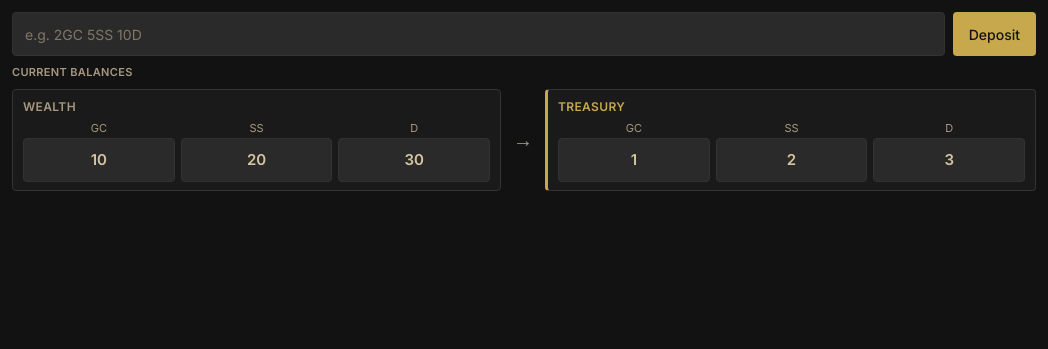
Scenario: TransferControl breakdown tooltip (Req 6.3) › includes zero components in the breakdown
The width and height of the screenshot is (1048, 349).
In the field named "amount": x=478, y=34 [12, 12, 945, 56], type "2GC"
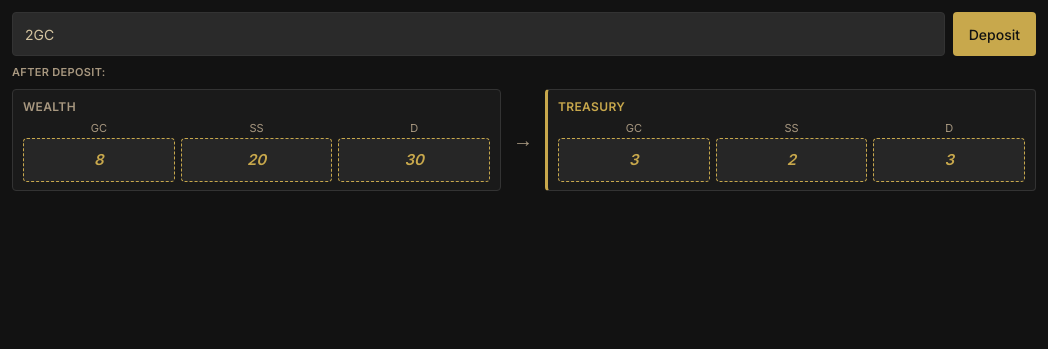
Click the button with test id "transfer-deposit-source-d": x=414, y=160 [338, 138, 490, 182]
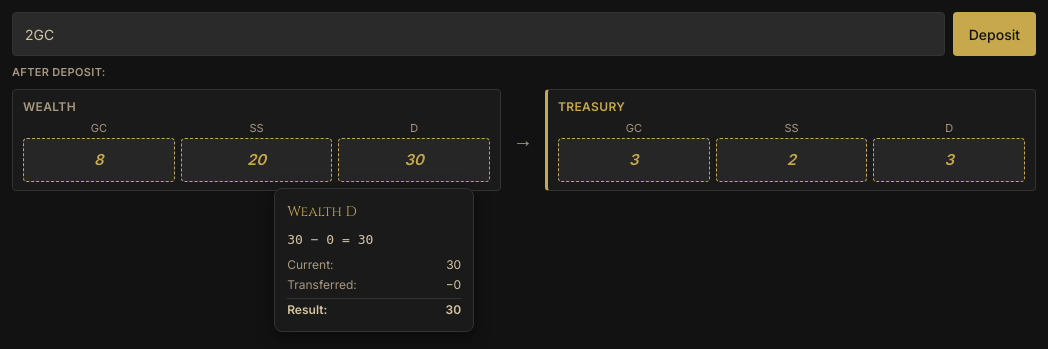
Check: the tooltip shows "30 − 0 = 30", box [274, 188, 474, 332]
